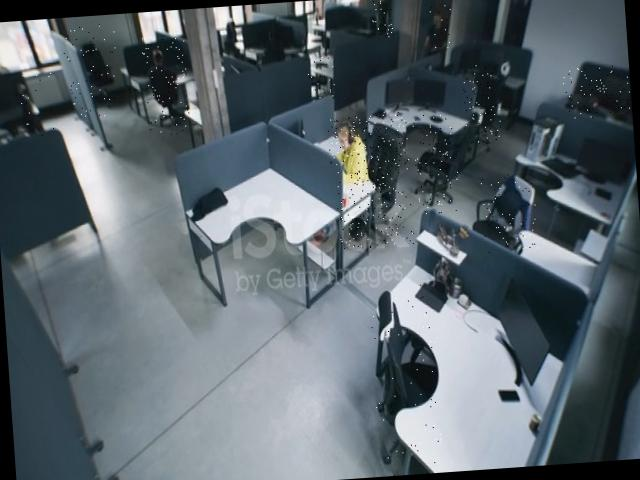empty chair: (366, 284, 444, 476), (62, 22, 120, 119), (412, 112, 461, 214), (480, 172, 540, 252), (461, 63, 502, 146), (14, 73, 56, 137), (305, 55, 335, 100)
occupiedchair: (330, 110, 414, 250), (142, 35, 190, 136), (562, 64, 632, 120)
